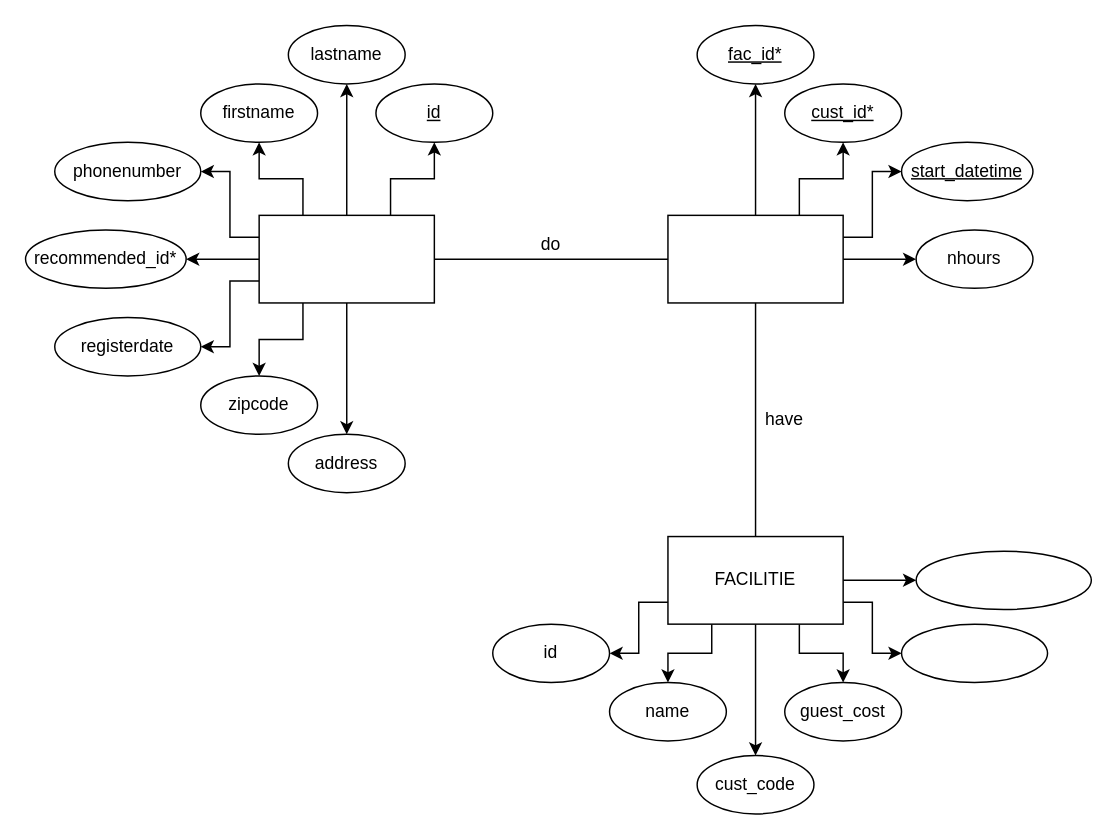
Image size: 1117x840. Some labels were removed from this diagram. The centre of each missing label's shape, as x and y in pixels:
BOOKING: point (754, 258)
CUSTOMER: point (346, 258)
maintenance_cost: point (1003, 580)
purchase_cost: point (974, 653)
